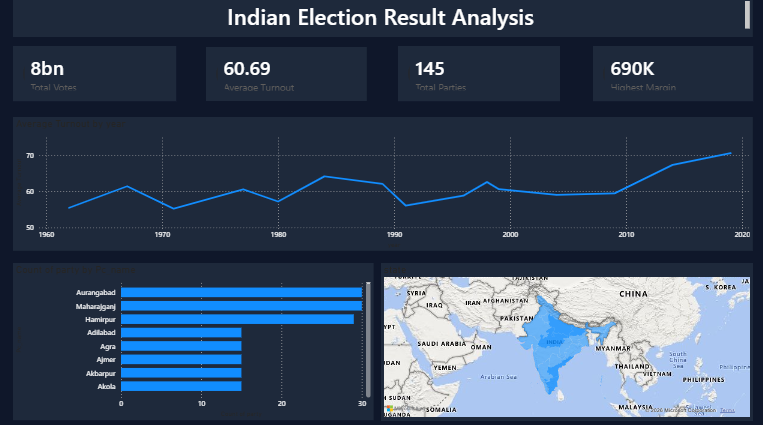

Layout of this report page (visuals, bound fields, positions):
{"tool":"powerbi","page":{"name":"Page 4","canvas":[1280,720],"ordinal":0},"visuals":[{"type":"cardVisual","fields":{"Data":["final_processed_election_data.Total Votes"]},"box":[0,105.8,236.9,107.5],"z":0},{"type":"cardVisual","fields":{"Data":["final_processed_election_data.Avg Turnout"]},"box":[265.4,105.8,233.5,107.5],"z":1000},{"type":"cardVisual","fields":{"Data":["final_processed_election_data.Total Parties"]},"box":[1026.4,105.8,253.6,107.5],"z":2000},{"type":"cardVisual","fields":{"Data":["final_processed_election_data.Highest Margin"]},"box":[522.4,105.8,233.5,107.5],"z":3000},{"type":"cardVisual","fields":{"Data":["final_processed_election_data.Total Constituencies"]},"box":[771,105.8,231.8,107.5],"z":4000},{"type":"lineChart","fields":{"Category":["final_processed_election_data.year"],"Y":["final_processed_election_data.Avg Turnout"]},"box":[0,228.5,1280,238.5],"z":5000},{"type":"barChart","fields":{"Y":["CountNonNull(final_processed_election_data.party)"],"Category":["final_processed_election_data.Pc_name"]},"box":[0,482.1,619.8,226.8],"z":6000},{"type":"filledMap","fields":{"Category":["final_processed_election_data.state"]},"box":[636.6,482.1,643.4,226.8],"z":7000},{"type":"textbox","box":[0,0,1280,82.5],"z":8000}]}

Visuals, with their boxes in screenshot pixels (x1, y1, x2, y2), scaled from the page's 1280x720 canvas onto the 763x425 screenshot:
cardVisual - final_processed_election_data.Total Votes: detection(0, 62, 141, 126)
cardVisual - final_processed_election_data.Avg Turnout: detection(158, 62, 297, 126)
cardVisual - final_processed_election_data.Total Parties: detection(612, 62, 762, 126)
cardVisual - final_processed_election_data.Highest Margin: detection(311, 62, 451, 126)
cardVisual - final_processed_election_data.Total Constituencies: detection(460, 62, 598, 126)
lineChart - final_processed_election_data.year x final_processed_election_data.Avg Turnout: detection(0, 135, 762, 276)
barChart - CountNonNull(final_processed_election_data.party) x final_processed_election_data.Pc_name: detection(0, 285, 369, 418)
filledMap - final_processed_election_data.state: detection(379, 285, 762, 418)
textbox: detection(0, 0, 762, 49)
